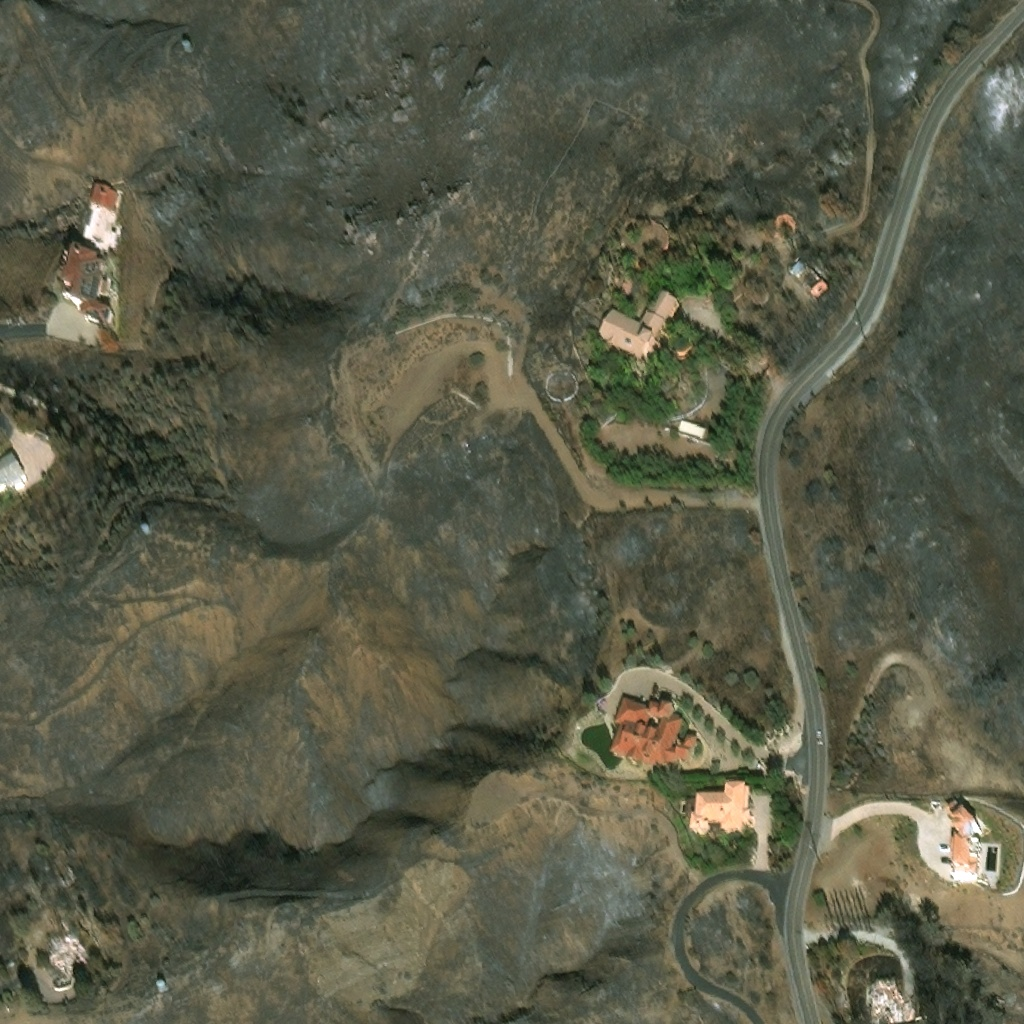0 no-damage: (608, 693, 698, 772), (596, 293, 680, 364), (58, 240, 106, 314), (690, 784, 751, 835), (944, 795, 977, 874), (78, 175, 113, 238), (0, 448, 22, 482), (771, 214, 795, 241), (676, 416, 706, 436), (810, 280, 830, 299), (647, 698, 662, 718), (790, 261, 806, 277), (155, 978, 164, 988), (928, 795, 938, 802)
1 minor-damage: (182, 38, 190, 46), (142, 527, 150, 534)
3 destroyed: (861, 980, 915, 1020), (44, 922, 76, 964), (55, 859, 72, 876), (989, 990, 1002, 1002), (489, 450, 501, 462), (30, 924, 40, 933)
